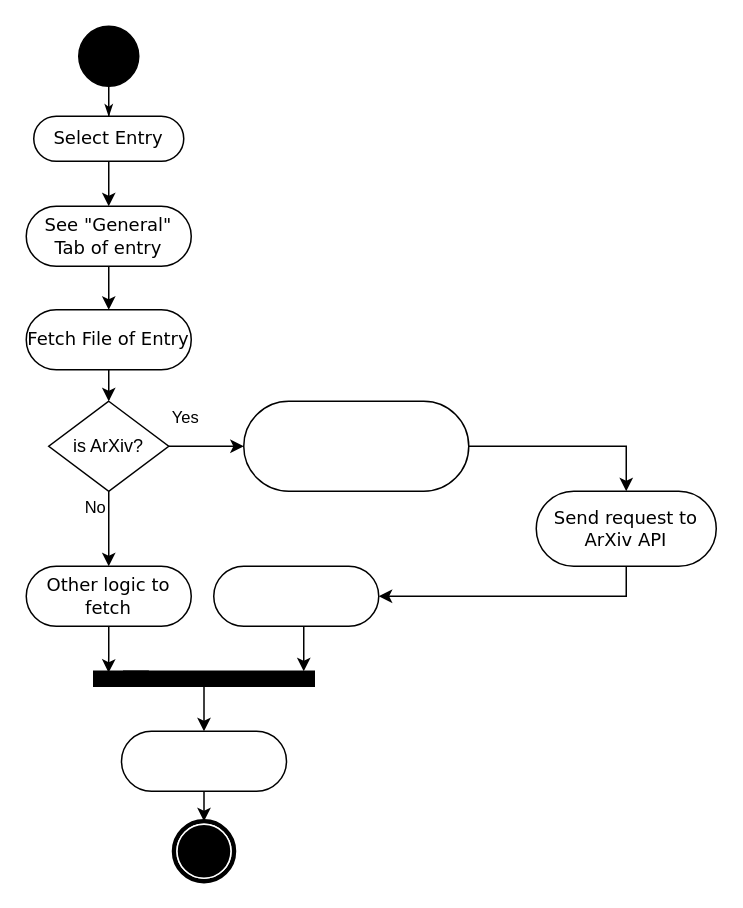
This 743x908 diagram has some shape labels left out. The shapes that lost their labels are listed below. From the top down, each one's box as (x1, y1, x2, y2) in pixels, then its label:
(242, 400, 469, 491): Build search request with "Title" from entry
(212, 565, 379, 626): Receive file
(120, 730, 286, 791): Show file on UI
